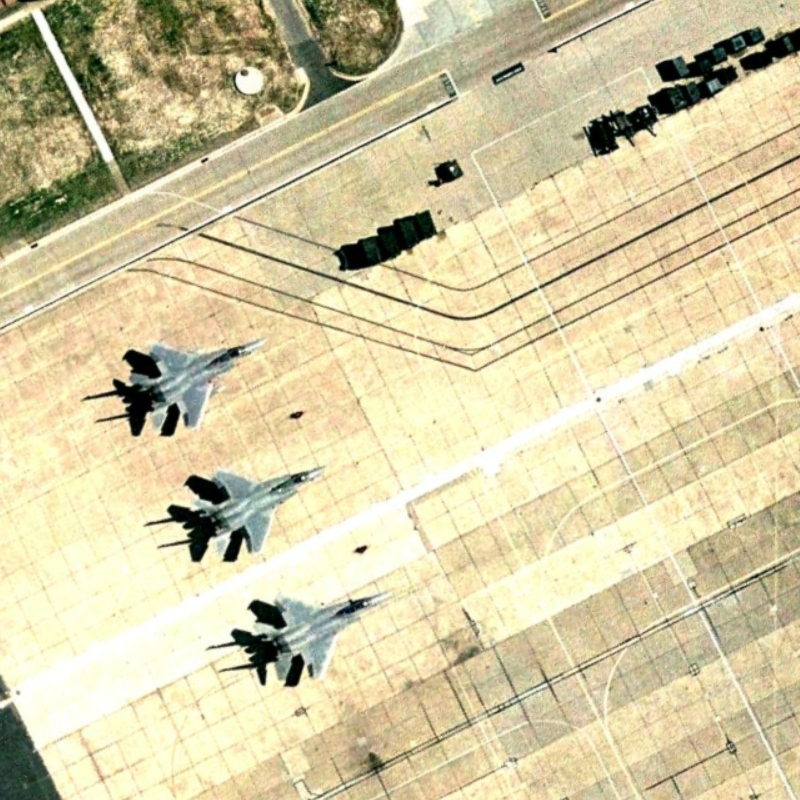A13: (103, 333, 270, 435), (178, 460, 331, 560), (240, 586, 390, 686)
